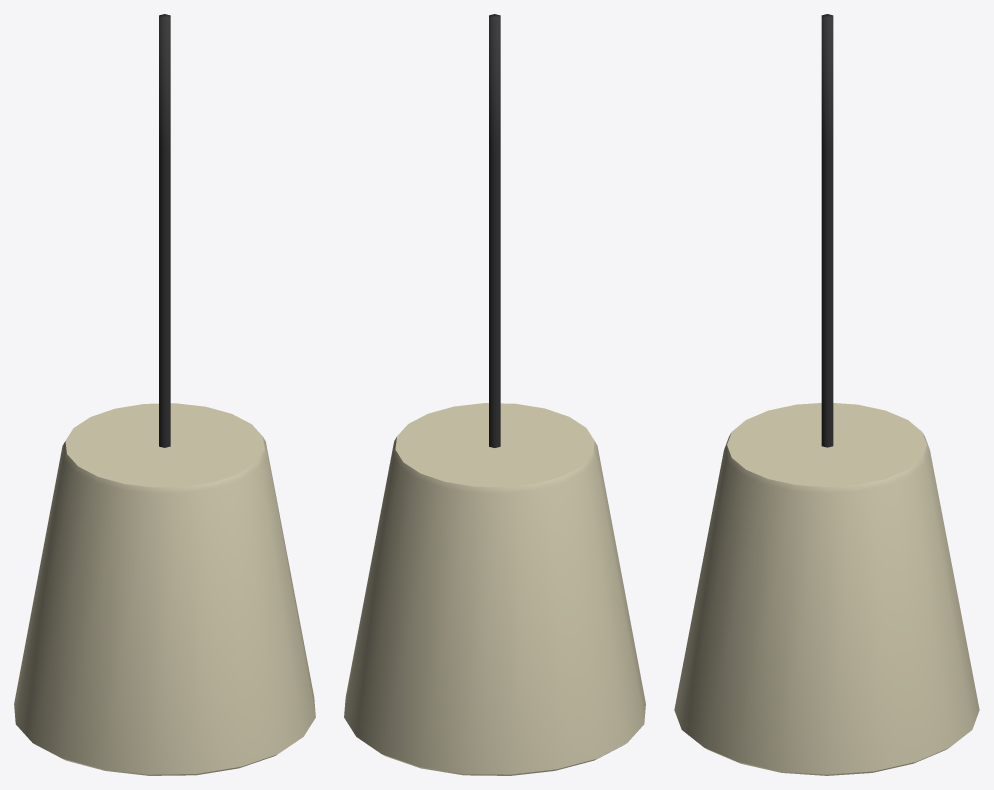
Rendered from ErserudShade202.FBX.
3 renders of one model, left to right at view 1: azimuth 30°, elevation 25°; view 2: azimuth 150°, elevation 25°; view 3: azimuth 270°, elevation 25°, orthographic.
Visible parts, largest first — view 1: ErserudShade202; view 2: ErserudShade202; view 3: ErserudShade202.
Part boxes in pixels (bbox=[...]): ErserudShade202: bbox=[14, 14, 315, 775]; ErserudShade202: bbox=[344, 14, 645, 775]; ErserudShade202: bbox=[674, 14, 979, 775].
Size of the model in its own units: 34 by 34 by 85.59.
